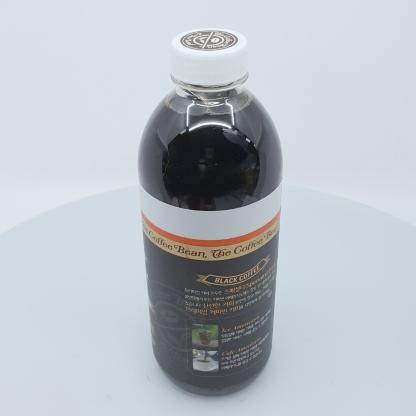--------: (138, 28, 284, 396)
